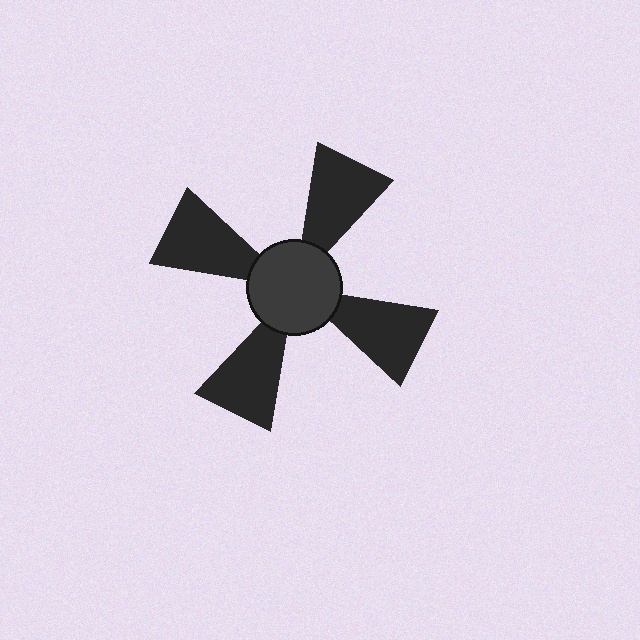fan: (124, 117, 464, 457)
